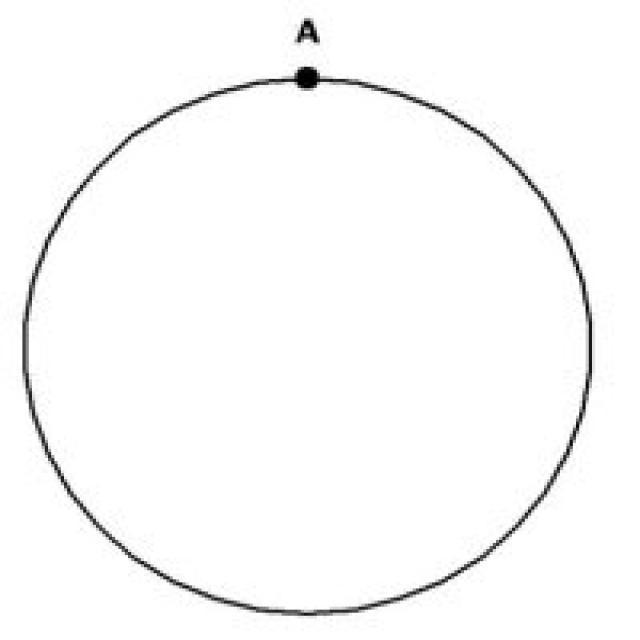Circle: (22, 70, 592, 614)
